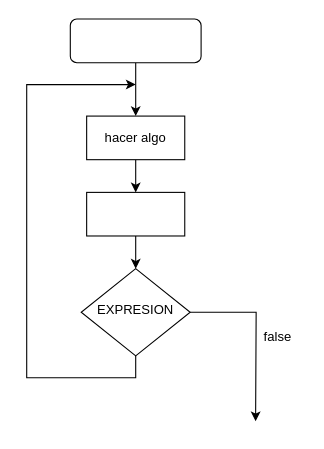
Image size: 324x449. Some labels were removed from this diagram. Each missing label, with the centre of its shape:
"i = i + 1" belongs at (x=135, y=213).
"i=0" belongs at (x=135, y=40).
